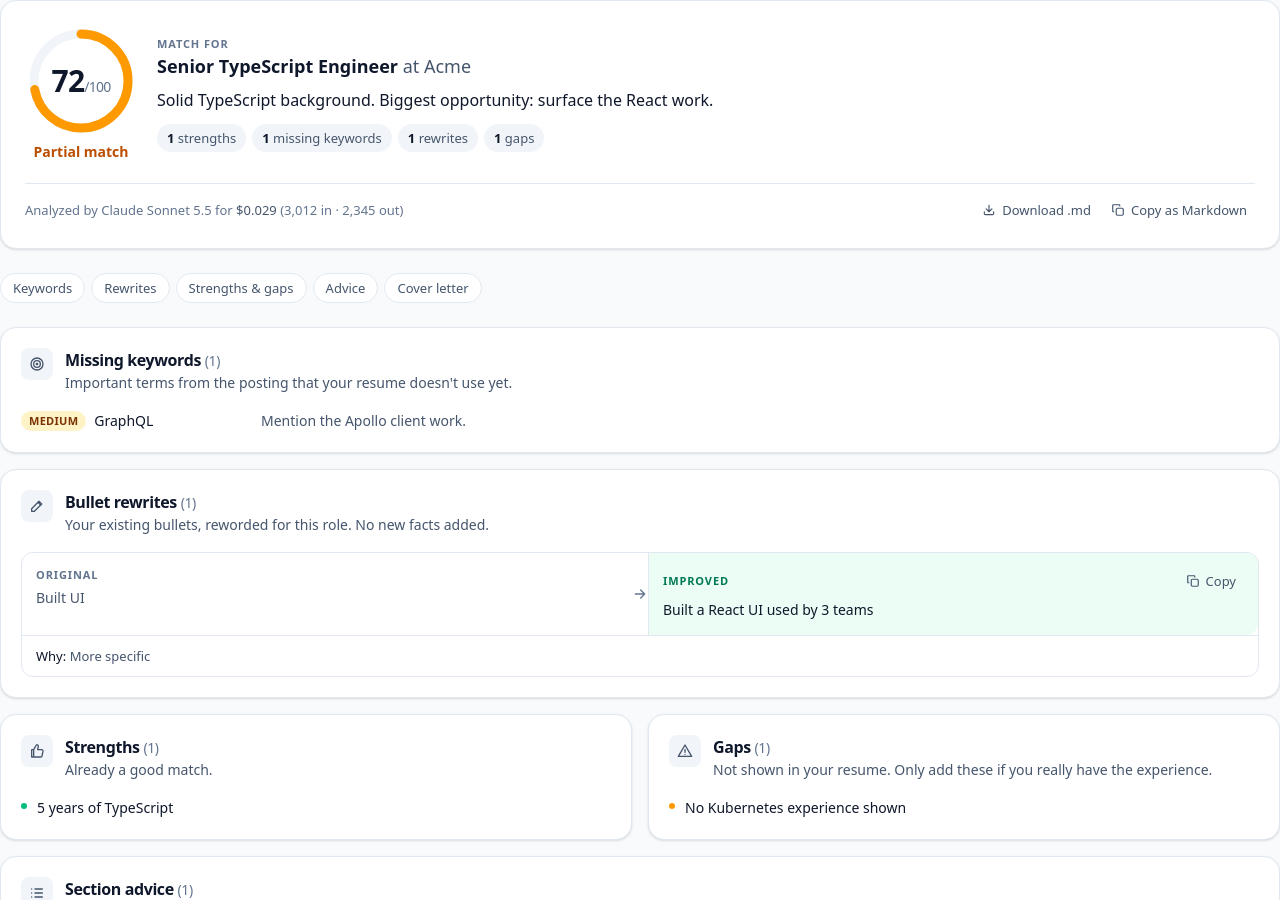
Test: ResultView › copies the improved bullet to the clipboard
Step 1. Click the button with aria-label "Copy improved bullet" → (1211, 581), box [1178, 567, 1244, 595]
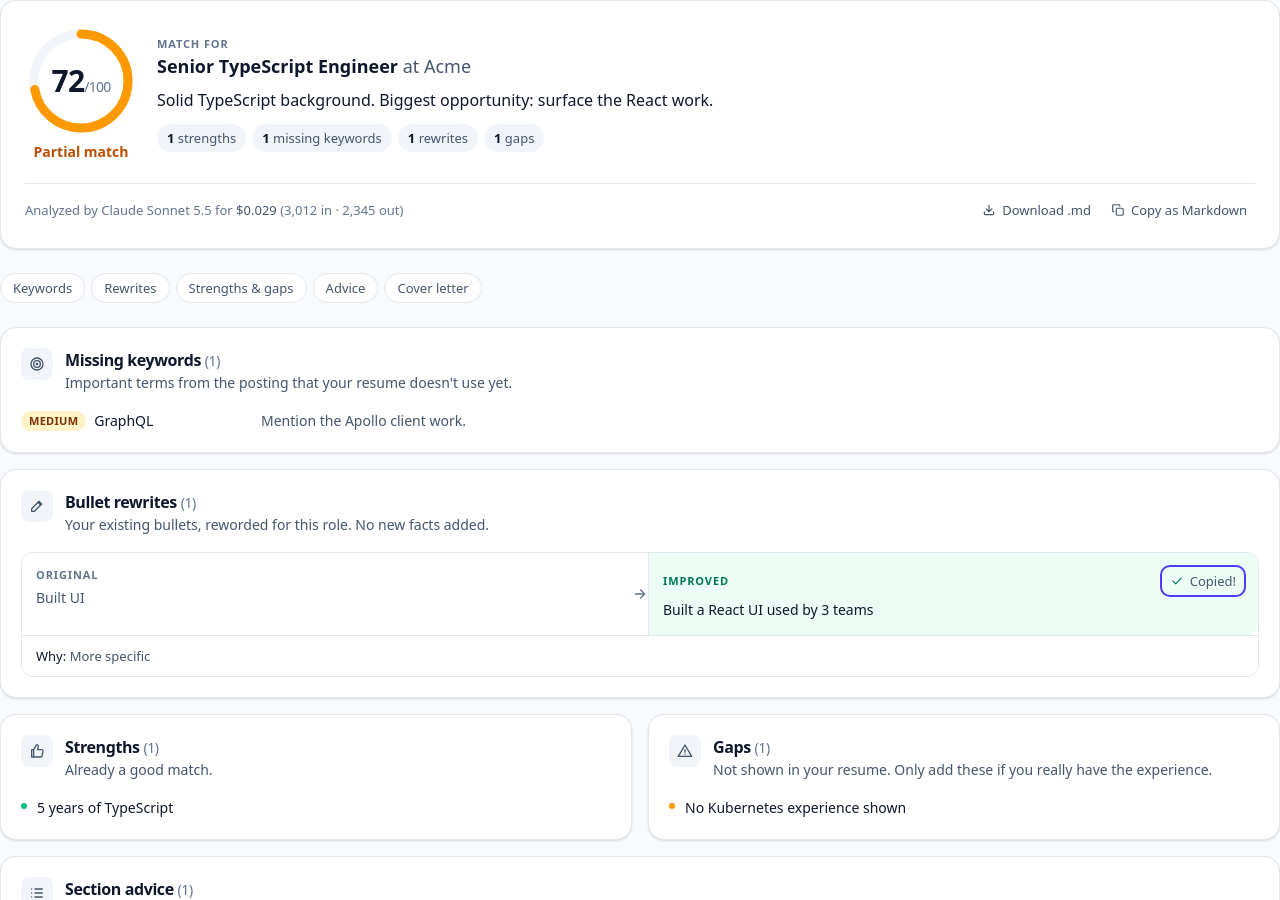
Check: the text "Copied!" is shown, box [1190, 571, 1236, 591]
